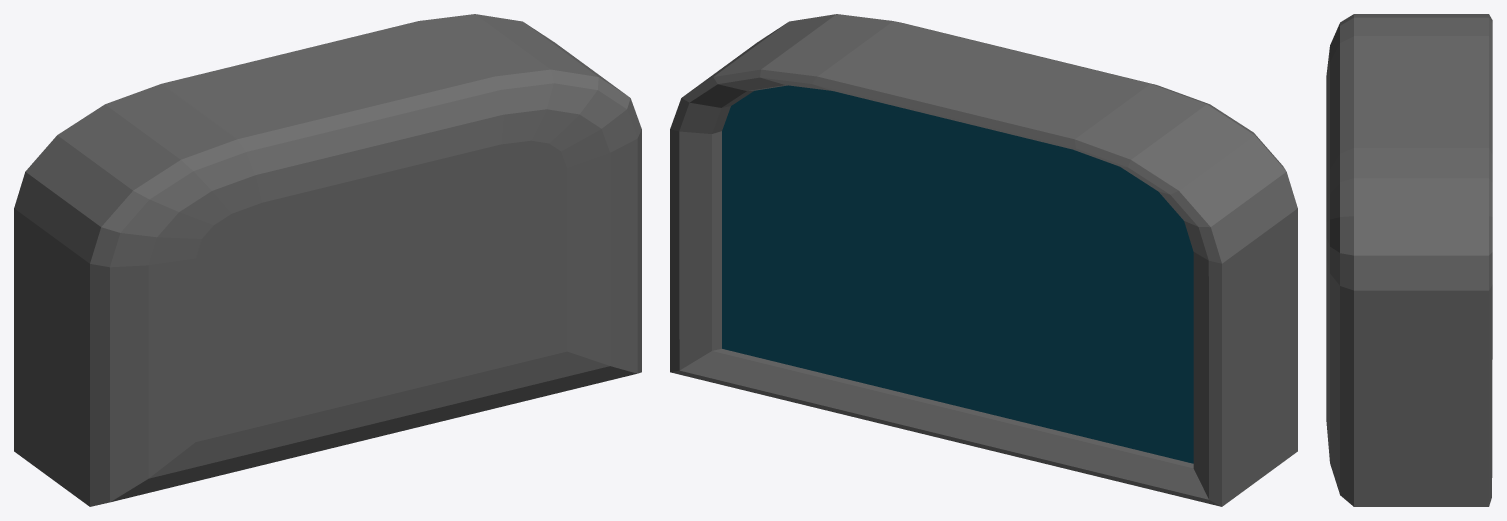
The model's file is ScoreEscopetaHolder.fbx.
The picture shows the model from 3 angles, left to right: view 1: azimuth 30°, elevation 25°; view 2: azimuth 150°, elevation 25°; view 3: azimuth 270°, elevation 25°; orthographic projection. The views are drawn at different scales.
Visible parts, largest first — view 1: ScoreHolder; view 2: ScoreHolder; view 3: ScoreHolder.
Part boxes in pixels (x1,y1,x2,y2): ScoreHolder: (14, 14, 641, 506); ScoreHolder: (670, 14, 1297, 506); ScoreHolder: (1326, 14, 1492, 506).
Size of the model in its own units: 0.3584 by 0.1052 by 0.2059.
